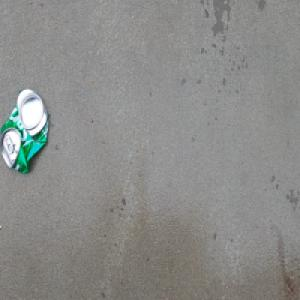SodaCan: (0, 87, 49, 177)
